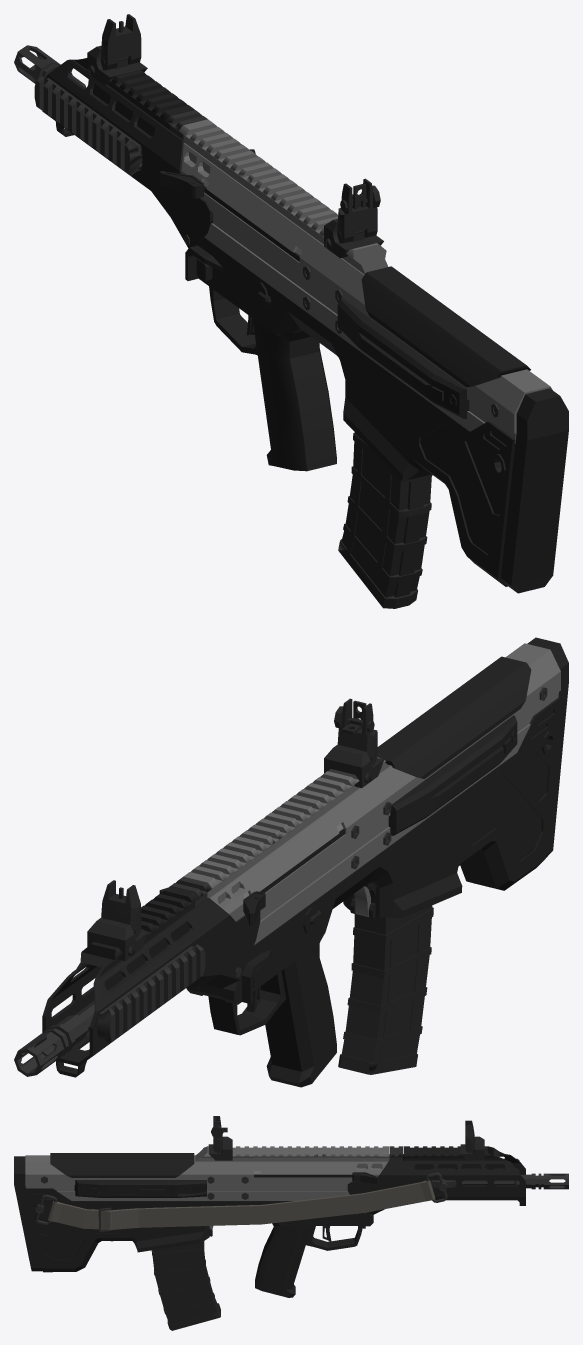
Rendered from MDR.glb.
3 renders of one model, top to bottom at view 1: azimuth 30°, elevation 25°; view 2: azimuth 150°, elevation 25°; view 3: azimuth 270°, elevation 25°, orthographic. The views are drawn at different scales.
Visible parts, largest first — view 1: Body_Lower, Body_Upper, Pistol_Grip, Magazine_30_Round_PMAG, Rear_Butt_Pad, Handguard_Short, Rear_Cheek_Pad, Top_Piccatiny_Rail, Ejector_Port_Cover_Left, Rail_Long_Very, Sight_Main.001, Sight_Main (+4 smaller); view 2: Body_Lower, Body_Upper, Handguard_Short, Magazine_30_Round_PMAG, Pistol_Grip, Rear_Cheek_Pad, Top_Piccatiny_Rail, Ejector_Port_Cover_Left, Rail_Long_Very, Rear_Butt_Pad, Flashhider, Sight_Main.001 (+5 smaller); view 3: Body_Upper, Sling, Body_Lower, Handguard_Short, Magazine_30_Round_PMAG, Pistol_Grip, Rear_Cheek_Pad, Top_Piccatiny_Rail, Ejector_Port_Right, Rear_Butt_Pad, Flashhider, Barrel (+4 smaller).
Boxes of the visible parts, x1,y1,x2,y2 form: Body_Lower: (185, 237, 515, 586); Body_Upper: (181, 143, 552, 443); Pistol_Grip: (209, 286, 336, 471); Magazine_30_Round_PMAG: (338, 432, 432, 608); Rear_Butt_Pad: (501, 388, 568, 593); Handguard_Short: (42, 58, 213, 248); Rear_Cheek_Pad: (361, 266, 530, 387); Top_Piccatiny_Rail: (179, 119, 388, 274); Ejector_Port_Cover_Left: (337, 299, 469, 418); Rail_Long_Very: (34, 76, 142, 175); Sight_Main.001: (101, 14, 141, 70); Sight_Main: (337, 178, 377, 243); Body_Lower: (186, 697, 560, 1004); Body_Upper: (210, 643, 560, 944); Handguard_Short: (42, 886, 260, 1077); Magazine_30_Round_PMAG: (338, 905, 433, 1074); Pistol_Grip: (208, 933, 336, 1087); Rear_Cheek_Pad: (377, 656, 531, 778); Top_Piccatiny_Rail: (183, 757, 389, 897); Ejector_Port_Cover_Left: (388, 715, 517, 835); Rail_Long_Very: (97, 944, 205, 1043); Rear_Butt_Pad: (527, 637, 568, 857); Flashhider: (14, 1023, 75, 1076); Sight_Main.001: (101, 880, 141, 938); Body_Upper: (25, 1155, 387, 1200); Sling: (48, 1180, 435, 1230); Body_Lower: (26, 1188, 373, 1272); Handguard_Short: (347, 1146, 525, 1214); Magazine_30_Round_PMAG: (151, 1241, 220, 1330); Pistol_Grip: (255, 1222, 362, 1297); Rear_Cheek_Pad: (50, 1153, 194, 1177); Top_Piccatiny_Rail: (195, 1146, 389, 1161); Ejector_Port_Right: (74, 1180, 206, 1197); Rear_Butt_Pad: (14, 1156, 42, 1271); Flashhider: (531, 1173, 568, 1189); Barrel: (462, 1174, 531, 1188).
Bounding box in the file's own units: 0.0274 × 0.1082 × 0.2612.
Materials: 4 (4 with a texture image).
